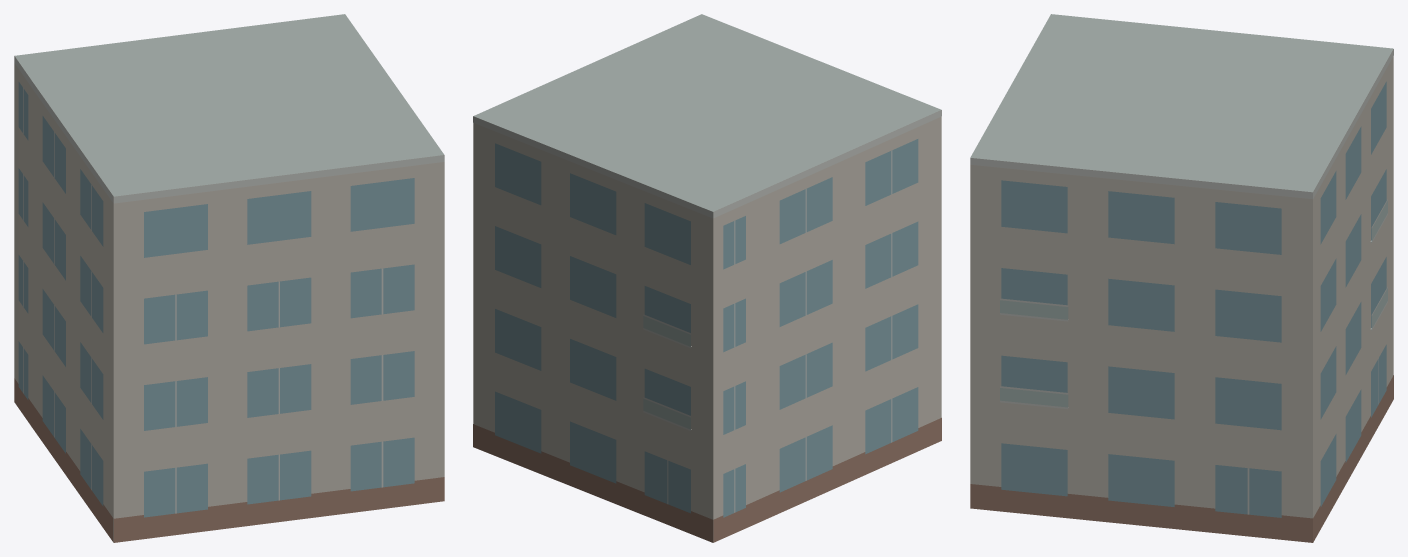
File: residential-6bc9cb2c-a466-4360-906e-185d406f47e2.glb
3 renders of one model, left to right at view 1: azimuth 30°, elevation 25°; view 2: azimuth 150°, elevation 25°; view 3: azimuth 270°, elevation 25°, orthographic. The views are drawn at different scales.
Parts seen in each view (by area): view 1: residential-6bc9cb2c-a466-4360-906e-185d406f47e2.tmp; view 2: residential-6bc9cb2c-a466-4360-906e-185d406f47e2.tmp; view 3: residential-6bc9cb2c-a466-4360-906e-185d406f47e2.tmp.
Boxes of the visible parts, box(x1,y1,x2,y2) form: residential-6bc9cb2c-a466-4360-906e-185d406f47e2.tmp: box(14, 14, 444, 542); residential-6bc9cb2c-a466-4360-906e-185d406f47e2.tmp: box(473, 14, 941, 542); residential-6bc9cb2c-a466-4360-906e-185d406f47e2.tmp: box(970, 14, 1393, 542).
Bounding box in the file's own units: 13.31 × 12.2 × 13.37.
